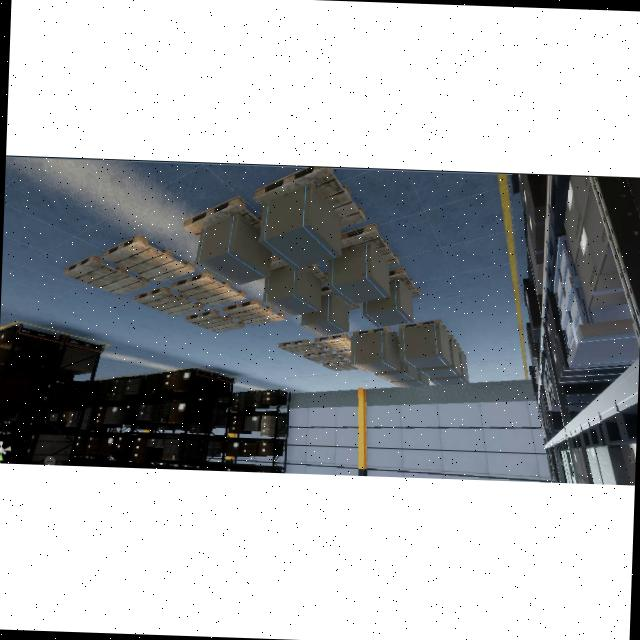wooden_pallet: (251, 166, 366, 228), (102, 234, 195, 283), (63, 254, 149, 296), (183, 198, 262, 239), (340, 224, 401, 268), (171, 272, 246, 307), (134, 286, 204, 316), (222, 299, 285, 326), (185, 310, 245, 333), (388, 266, 420, 298), (398, 320, 450, 335), (278, 339, 324, 355), (313, 333, 351, 352), (352, 327, 399, 342), (303, 350, 343, 363), (323, 359, 358, 371), (336, 349, 351, 360)
